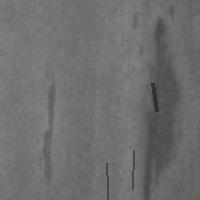inclusion: (138, 12, 182, 199), (35, 61, 61, 195), (127, 11, 143, 34), (150, 81, 158, 113), (104, 161, 110, 200), (130, 148, 135, 191)
